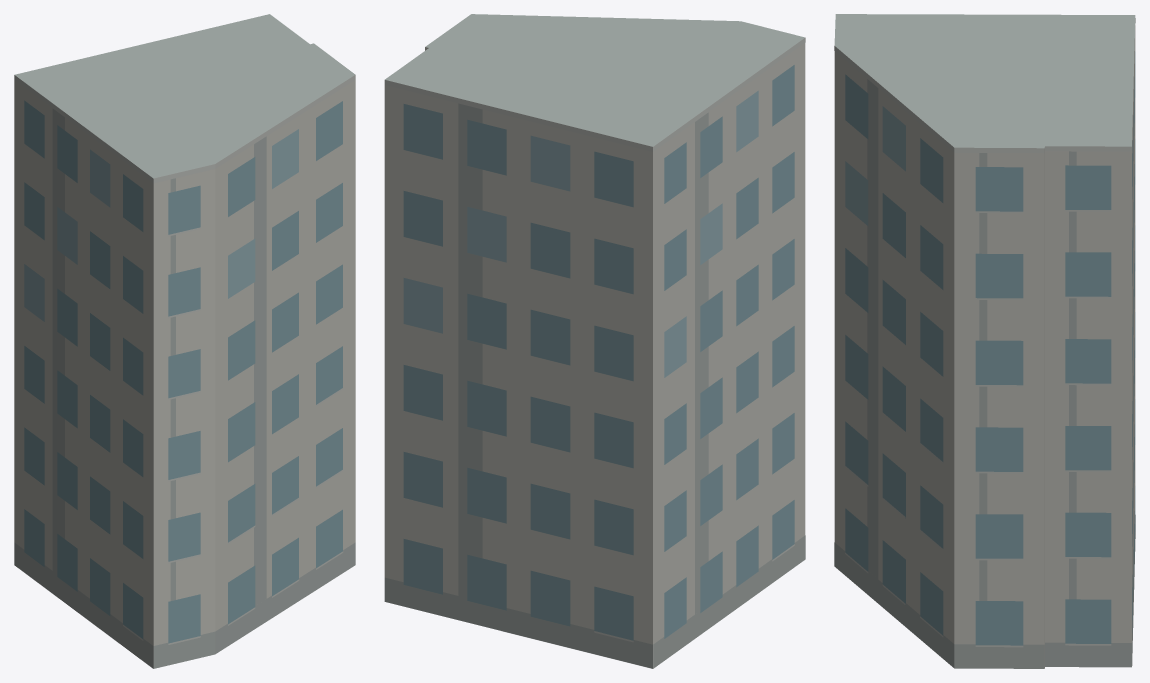
File: survey-upis-32892950.glb
3 renders of one model, left to right at view 1: azimuth 30°, elevation 25°; view 2: azimuth 150°, elevation 25°; view 3: azimuth 270°, elevation 25°, orthographic. The views are drawn at different scales.
Visible parts, largest first — view 1: survey-upis-32892950.tmp; view 2: survey-upis-32892950.tmp; view 3: survey-upis-32892950.tmp.
Boxes of the visible parts, bbox=[...] form: survey-upis-32892950.tmp: bbox=[14, 14, 355, 668]; survey-upis-32892950.tmp: bbox=[384, 14, 805, 668]; survey-upis-32892950.tmp: bbox=[834, 14, 1135, 668].
Size of the model in its own units: 13.55 by 24.5 by 12.84.
